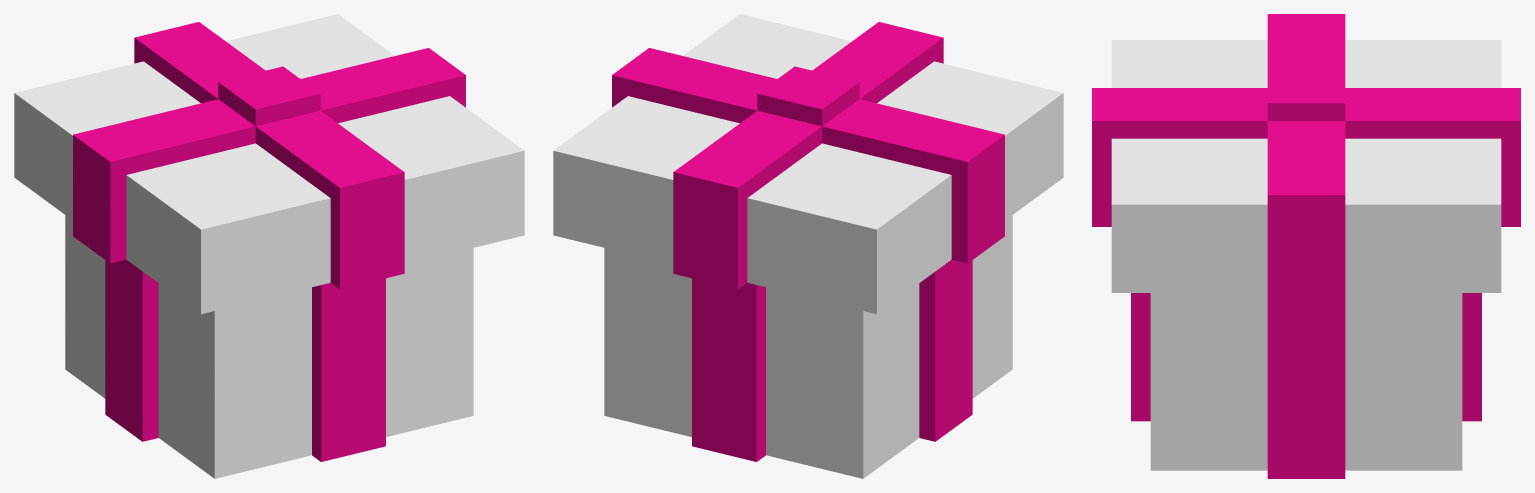
File: bearPeek.glb
3 renders of one model, left to right at view 1: azimuth 30°, elevation 25°; view 2: azimuth 150°, elevation 25°; view 3: azimuth 270°, elevation 25°, orthographic. The views are drawn at different scales.
Parts seen in each view (by area): view 1: presentbear, present; view 2: presentbear, present; view 3: presentbear, present.
Part boxes in pixels (x1,y1,x2,y2): presentbear: [14, 14, 524, 314]; present: [65, 215, 473, 478]; presentbear: [553, 14, 1063, 314]; present: [604, 215, 1012, 478]; presentbear: [1092, 14, 1520, 301]; present: [1131, 293, 1481, 478].
Bounding box in the file's own units: 2.2 × 1.8 × 2.2.
2 materials, 2 textured.
